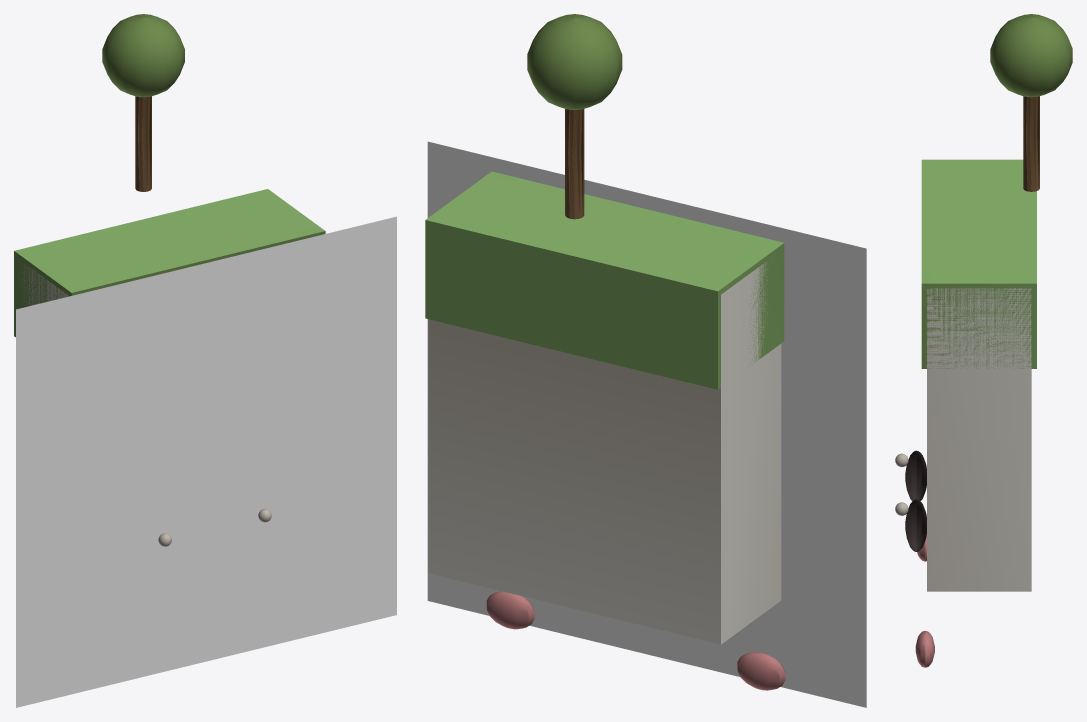
Rendered from p6fef44a8.glb.
The picture shows the model from 3 angles, left to right: view 1: azimuth 30°, elevation 25°; view 2: azimuth 150°, elevation 25°; view 3: azimuth 270°, elevation 25°; orthographic projection. The views are drawn at different scales.
Parts seen in each view (by area): view 1: pet_p6fef44a8; view 2: pet_p6fef44a8; view 3: pet_p6fef44a8.
Boxes of the visible parts, <box> form: pet_p6fef44a8: <box>14,14,396,707</box>; pet_p6fef44a8: <box>425,14,866,707</box>; pet_p6fef44a8: <box>895,14,1072,667</box>.
Size of the model in its own units: 0.42 by 0.63 by 0.1698.
